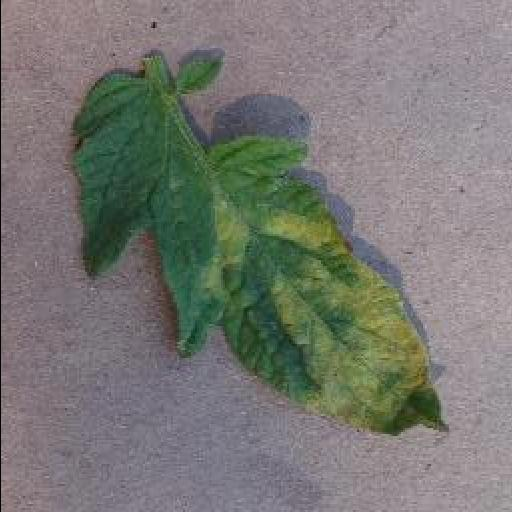disease_tomato: (72, 72, 452, 438)
